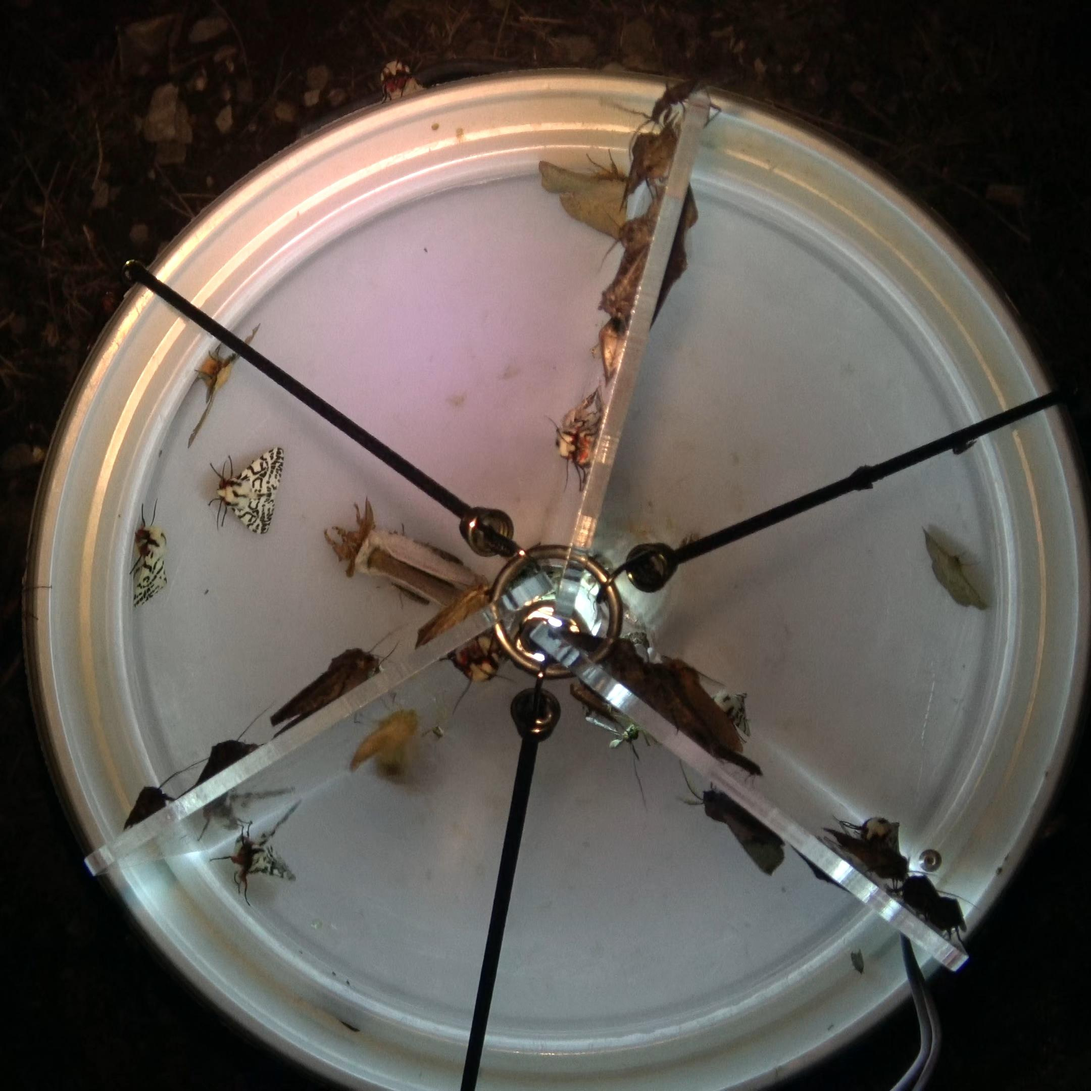bogong: (679, 758, 786, 877), (269, 628, 385, 719), (271, 658, 398, 739), (661, 655, 745, 753), (184, 704, 271, 797), (643, 660, 721, 755), (822, 826, 912, 889), (414, 583, 492, 650), (885, 869, 973, 917), (599, 199, 661, 265), (122, 769, 184, 830), (598, 637, 648, 706), (620, 121, 657, 210), (644, 123, 680, 196), (925, 895, 968, 943)
coleoptera: (604, 75, 723, 131)
moth_na: (322, 494, 488, 609), (209, 798, 307, 907), (186, 323, 260, 448), (538, 149, 630, 242), (348, 707, 436, 791), (583, 715, 660, 810), (597, 536, 675, 628), (208, 446, 286, 536), (437, 628, 515, 716), (923, 524, 992, 611), (128, 498, 172, 611), (597, 246, 659, 322), (543, 414, 598, 493), (649, 231, 687, 329), (788, 843, 854, 895), (833, 816, 902, 855), (568, 680, 621, 728), (709, 685, 750, 740), (598, 316, 630, 386), (560, 386, 605, 432), (380, 61, 425, 103), (717, 748, 764, 782), (677, 181, 700, 231), (847, 464, 880, 491), (535, 563, 564, 593), (586, 551, 613, 574), (623, 607, 650, 629), (889, 820, 903, 856), (849, 947, 865, 975), (624, 632, 652, 647)
objects: (420, 719, 447, 740), (951, 438, 977, 456), (679, 529, 701, 548), (339, 1019, 361, 1032), (588, 343, 602, 360), (454, 125, 464, 142), (826, 1022, 835, 1033), (995, 866, 1003, 876), (431, 122, 439, 131), (1004, 852, 1010, 862), (204, 588, 209, 595), (424, 248, 428, 255), (158, 450, 162, 457), (331, 971, 336, 976), (346, 979, 350, 985), (1045, 771, 1049, 777)
